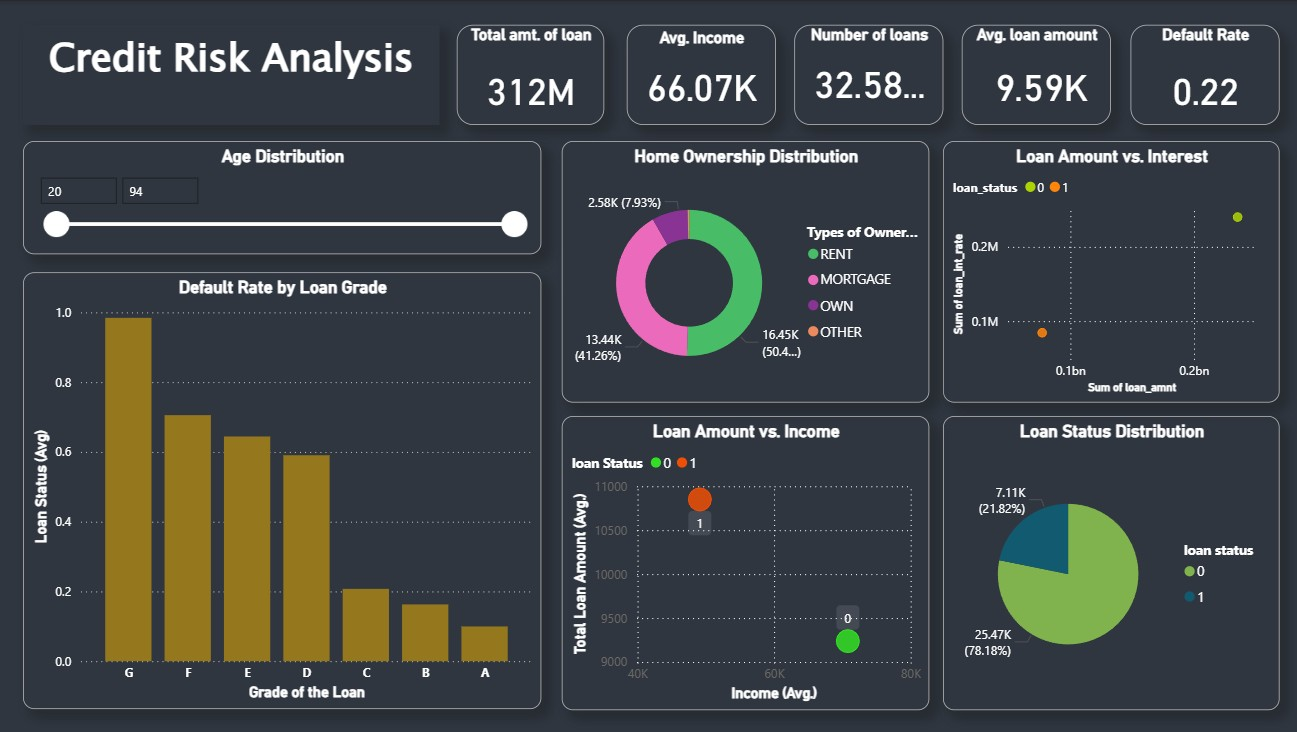

Layout of this report page (visuals, bound fields, positions):
{"tool":"powerbi","page":{"name":"Page 1","canvas":[1280,720],"ordinal":0},"visuals":[{"type":"cardVisual","title":"Total amt. of loan","fields":{"Data":["Sum(credit_risk_dataset.loan_amnt)"]},"box":[450.7,23.2,144.9,98.5],"z":0},{"type":"cardVisual","title":"Avg. loan amount","fields":{"Data":["Avg(credit_risk_dataset.loan_amnt)"]},"box":[946.4,23.2,146.4,98.5],"z":1000},{"type":"cardVisual","title":"Number of loans","fields":{"Data":["CountNonNull(credit_risk_dataset.loan_amnt)"]},"box":[781.2,23.2,146.4,98.5],"z":2000},{"type":"cardVisual","title":"Default Rate","fields":{"Data":["Avg(credit_risk_dataset.loan_status)"]},"box":[1111.6,23.2,146.4,98.5],"z":3000},{"type":"scatterChart","title":"Loan Amount vs. Interest","fields":{"X":["Sum(credit_risk_dataset.loan_amnt)"],"Y":["Sum(credit_risk_dataset.loan_int_rate)"],"Series":["credit_risk_dataset.loan_status"]},"box":[927.5,137.7,330.4,256.5],"z":4000},{"type":"textbox","box":[24.6,23.2,408.7,98.5],"z":5000},{"type":"donutChart","title":"Home Ownership Distribution","fields":{"Category":["credit_risk_dataset.person_home_ownership"],"Y":["CountNonNull(credit_risk_dataset.person_home_ownership)"]},"box":[553.6,137.7,360.9,256.5],"z":6000},{"type":"columnChart","title":"Default Rate by Loan Grade","fields":{"Category":["credit_risk_dataset.loan_grade"],"Y":["Avg(credit_risk_dataset.loan_status)"]},"box":[24.6,266.7,508.7,429],"z":7000},{"type":"scatterChart","title":"Loan Amount vs. Income","fields":{"X":["Avg(credit_risk_dataset.person_income)"],"Y":["Avg(credit_risk_dataset.loan_amnt)"],"Series":["credit_risk_dataset.loan_status"]},"box":[553.6,407.2,360.9,288.4],"z":8000},{"type":"cardVisual","title":"Avg. Income","fields":{"Data":["Avg(credit_risk_dataset.person_income)"]},"box":[617.4,23.2,146.4,98.5],"z":9000},{"type":"pieChart","title":"Loan Status Distribution","fields":{"Category":["credit_risk_dataset.loan_status"],"Y":["CountNonNull(credit_risk_dataset.loan_status)"]},"box":[927.5,407.2,330.4,288.4],"z":10000},{"type":"slicer","title":"Age Distribution","fields":{"Values":["credit_risk_dataset.person_age"]},"box":[24.6,137.7,508.7,111.6],"z":11000}]}

Visuals, with their boxes in screenshot pixels (x1, y1, x2, y2), scaled from the page's 1280x720 canvas onto the 1297x732 screenshot:
"Total amt. of loan" cardVisual: <region>457, 24, 604, 124</region>
"Avg. loan amount" cardVisual: <region>959, 24, 1107, 124</region>
"Number of loans" cardVisual: <region>792, 24, 940, 124</region>
"Default Rate" cardVisual: <region>1126, 24, 1275, 124</region>
"Loan Amount vs. Interest" scatterChart: <region>940, 140, 1275, 401</region>
textbox: <region>25, 24, 439, 124</region>
"Home Ownership Distribution" donutChart: <region>561, 140, 927, 401</region>
"Default Rate by Loan Grade" columnChart: <region>25, 271, 540, 707</region>
"Loan Amount vs. Income" scatterChart: <region>561, 414, 927, 707</region>
"Avg. Income" cardVisual: <region>626, 24, 774, 124</region>
"Loan Status Distribution" pieChart: <region>940, 414, 1275, 707</region>
"Age Distribution" slicer: <region>25, 140, 540, 253</region>
